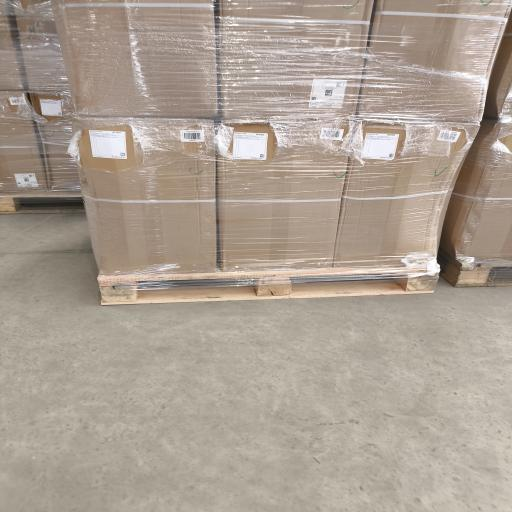pallet: (98, 267, 438, 304), (439, 251, 511, 287), (0, 191, 84, 214)
